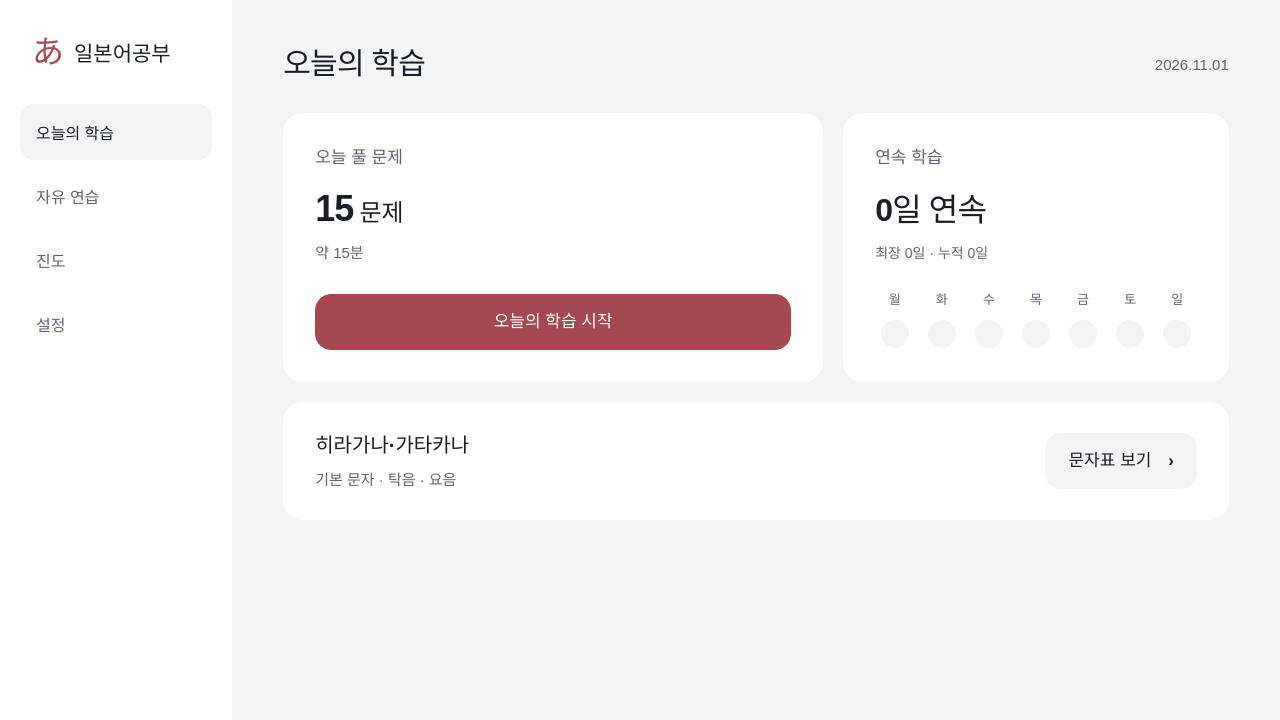
Test case: app navigation › starts the guided set from home and returns without losing it
The width and height of the screenshot is (1280, 720).
Expected: the heading "오늘의 학습" is shown, [283,44,425,84]
Click the button "오늘의 학습 시작".
click(553, 322)  # box [315,294,791,350]
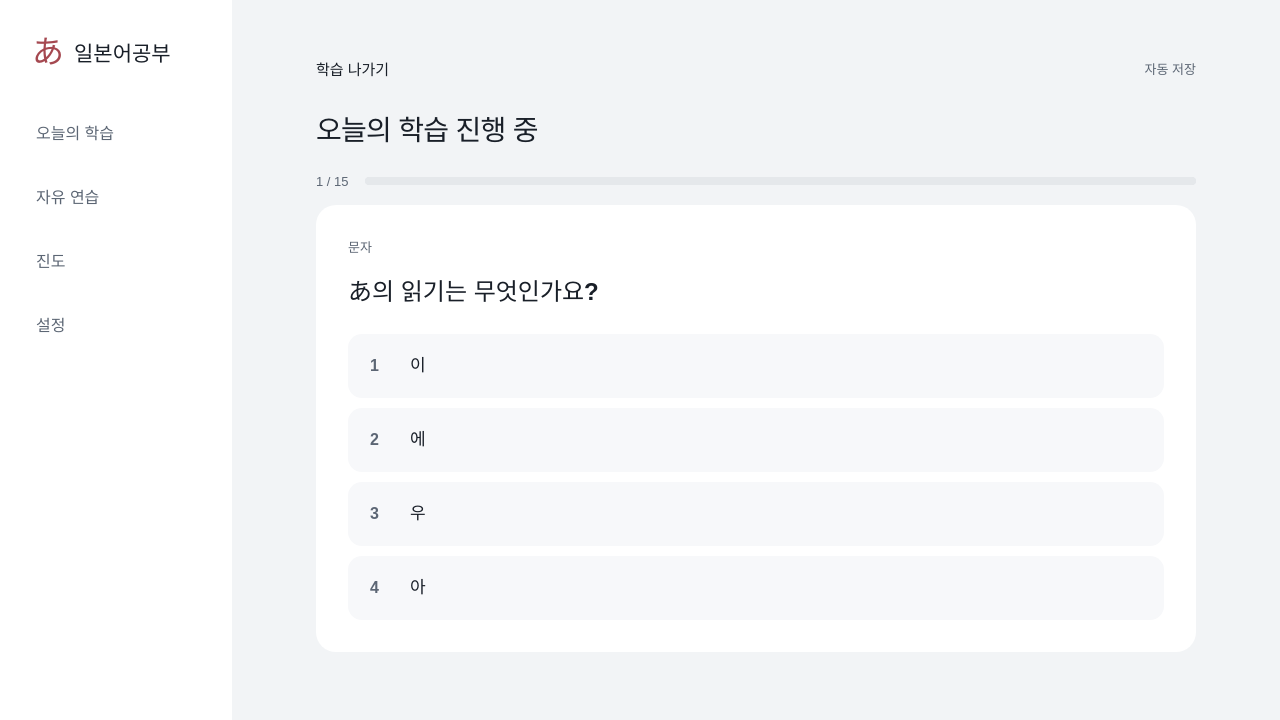
Result: the heading "오늘의 학습 진행 중" is shown at [316,115,538,146]
Click the button "학습 나가기".
click(353, 68)  # box [316,44,389,92]
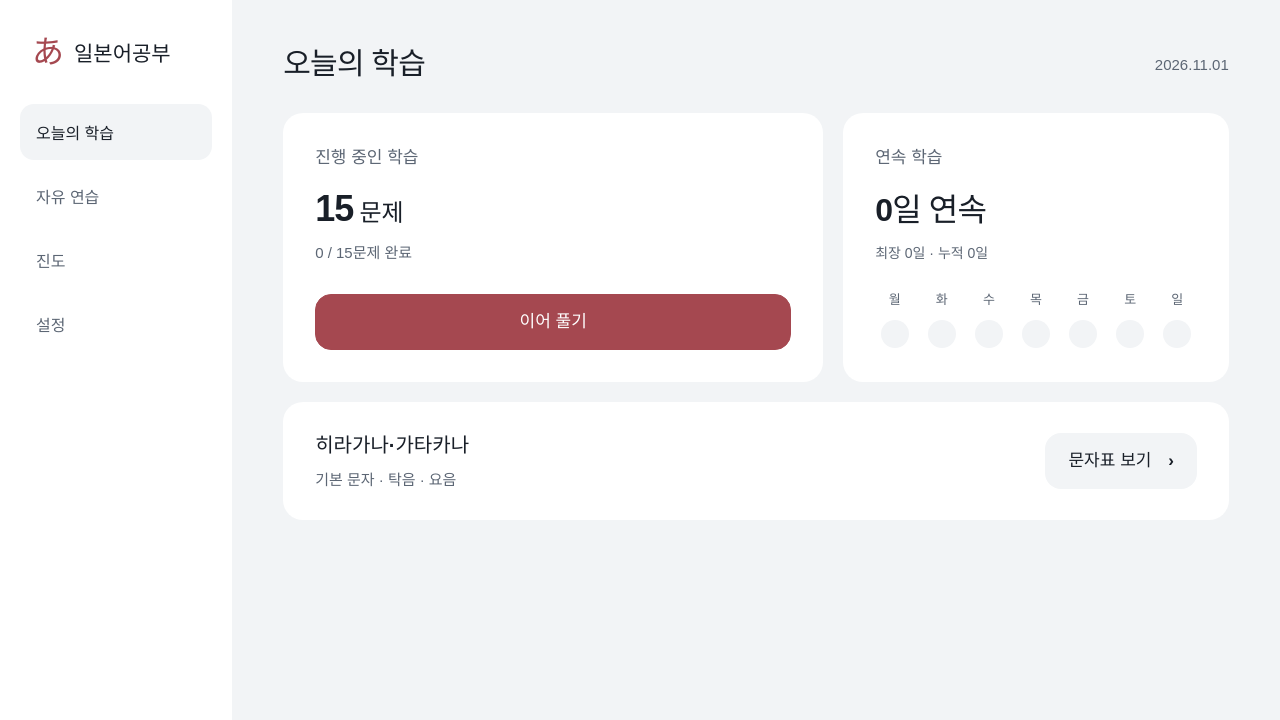
Result: the button "이어 풀기" is shown at [315,294,791,350]
